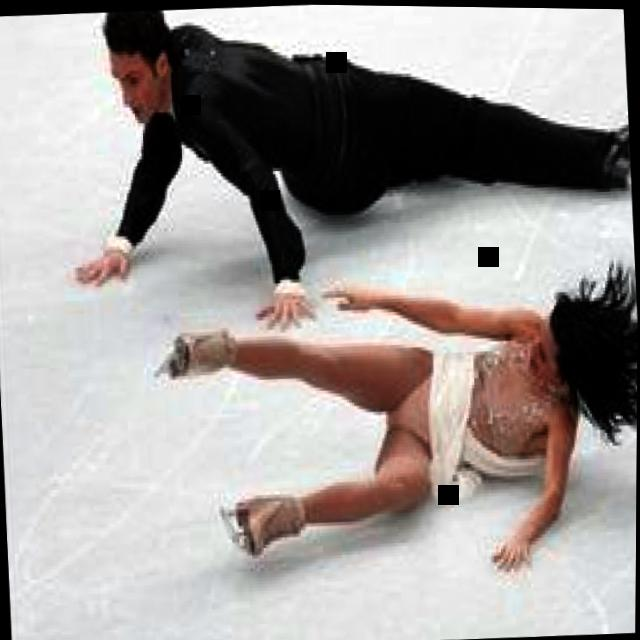Fall-Detected: (59, 1, 637, 303)
